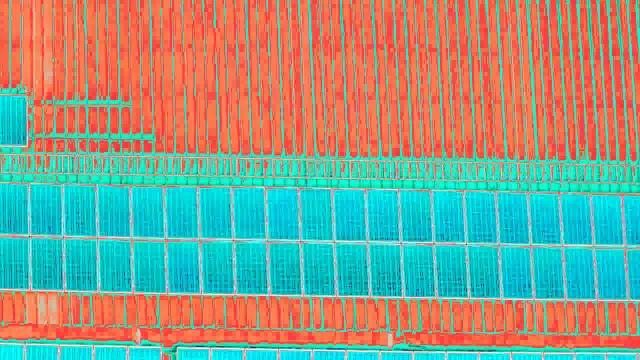dirty: (27, 183, 66, 239), (61, 181, 100, 237), (92, 182, 131, 238), (129, 186, 168, 242), (163, 183, 202, 239), (195, 184, 234, 240), (229, 184, 268, 240), (263, 187, 302, 243), (296, 187, 335, 243), (331, 186, 370, 242), (364, 188, 403, 244), (395, 188, 434, 244), (427, 189, 466, 245), (464, 188, 503, 244), (497, 189, 536, 245), (526, 192, 565, 248), (556, 190, 595, 246), (587, 191, 626, 247), (590, 246, 629, 302), (560, 247, 599, 303), (528, 244, 567, 300), (499, 245, 538, 301), (467, 243, 506, 299), (430, 243, 469, 299), (401, 243, 440, 299), (369, 241, 408, 297), (332, 240, 371, 296), (299, 241, 338, 297), (267, 239, 306, 295), (233, 239, 272, 295), (204, 237, 243, 293), (162, 237, 201, 293), (128, 238, 167, 294), (92, 236, 131, 292), (60, 236, 99, 292), (24, 236, 63, 292), (1, 240, 29, 290), (1, 183, 29, 233)
